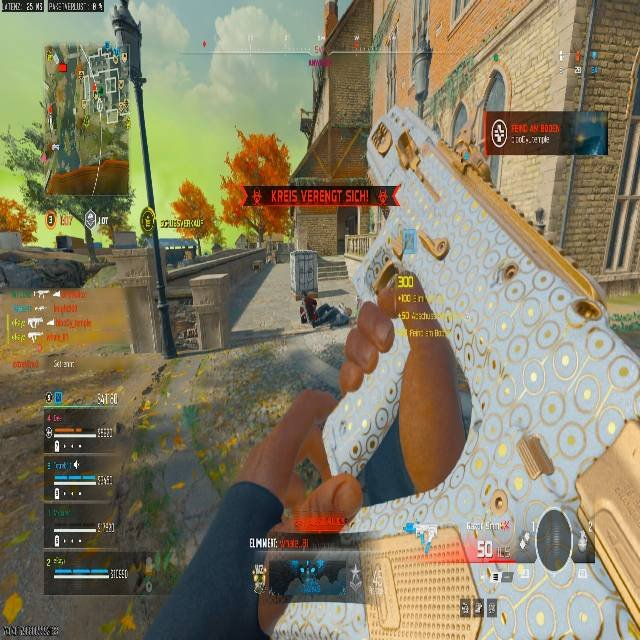player: (366, 105, 472, 260), (297, 290, 350, 329)
